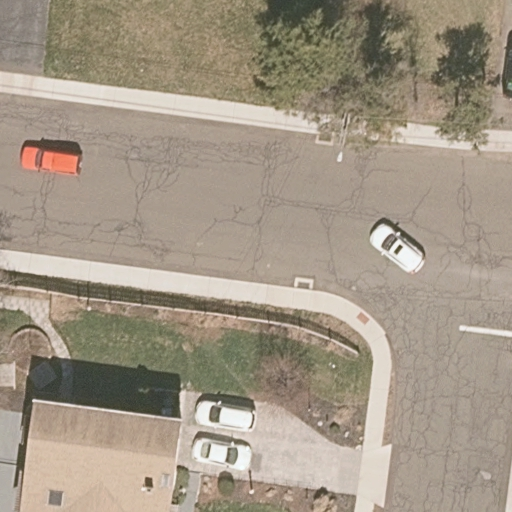DT: (333, 109, 360, 163)
